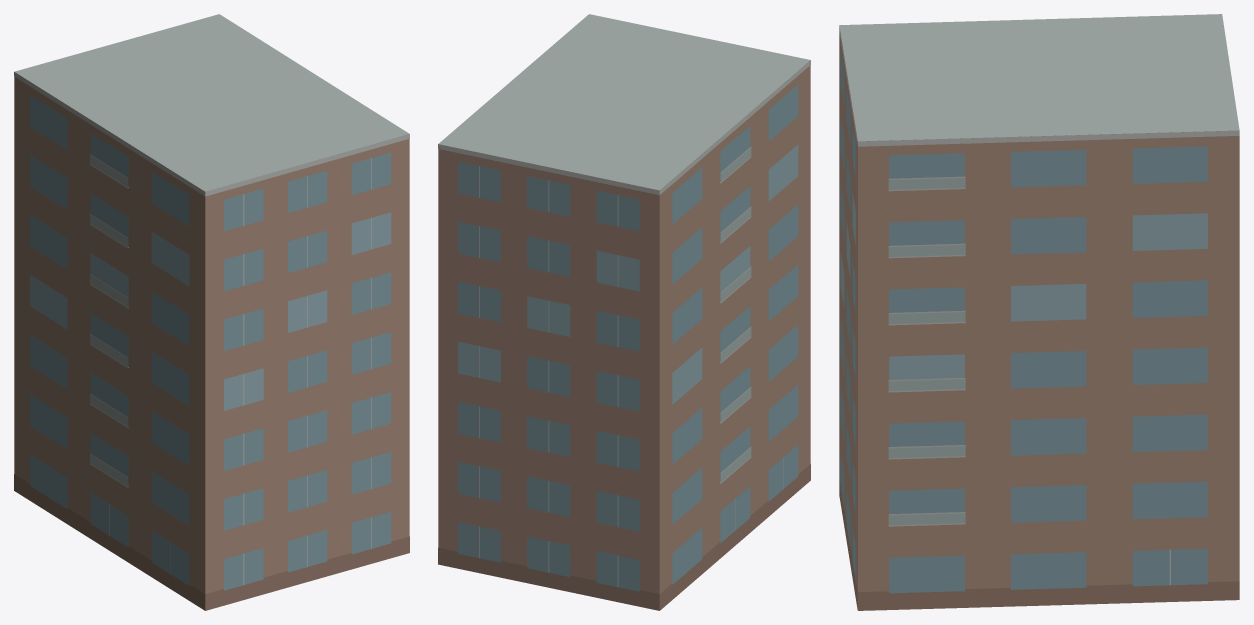
File: survey-upis-32971064.glb
3 renders of one model, left to right at view 1: azimuth 30°, elevation 25°; view 2: azimuth 150°, elevation 25°; view 3: azimuth 270°, elevation 25°, orthographic. The views are drawn at different scales.
Visible parts, largest first — view 1: survey-upis-32971064.tmp; view 2: survey-upis-32971064.tmp; view 3: survey-upis-32971064.tmp.
Boxes of the visible parts, x1,y1,x2,y2 form: survey-upis-32971064.tmp: (14, 14, 409, 610); survey-upis-32971064.tmp: (438, 14, 810, 610); survey-upis-32971064.tmp: (839, 14, 1239, 610).
Bounding box in the file's own units: 12.43 × 21.35 × 16.51.
